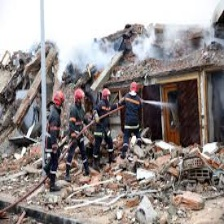smoke: (60, 13, 195, 71)
